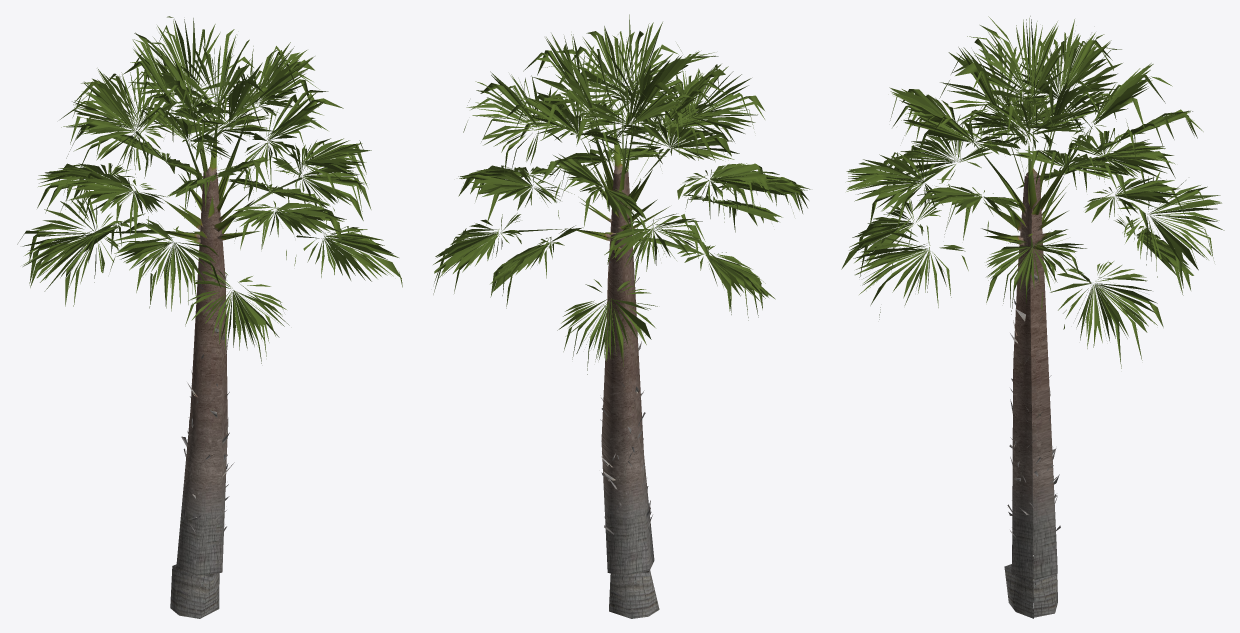
Rendered from palm_fan.glb.
3 views of the same model, side by side, from view 1: azimuth 30°, elevation 25°; view 2: azimuth 150°, elevation 25°; view 3: azimuth 270°, elevation 25° (orthographic).
Parts seen in each view (by area): view 1: Washingtonia_filifera_HD_Wash leaf stalk 01_0; view 2: Washingtonia_filifera_HD_Wash leaf stalk 01_0; view 3: Washingtonia_filifera_HD_Wash leaf stalk 01_0.
Part boxes in pixels (bbox=[...]): Washingtonia_filifera_HD_Wash leaf stalk 01_0: bbox=[17, 16, 402, 618]; Washingtonia_filifera_HD_Wash leaf stalk 01_0: bbox=[433, 14, 810, 618]; Washingtonia_filifera_HD_Wash leaf stalk 01_0: bbox=[841, 16, 1224, 618].
Size of the model in its own units: 4.72 by 7.87 by 4.81.
Materials: 8 (8 with a texture image).
